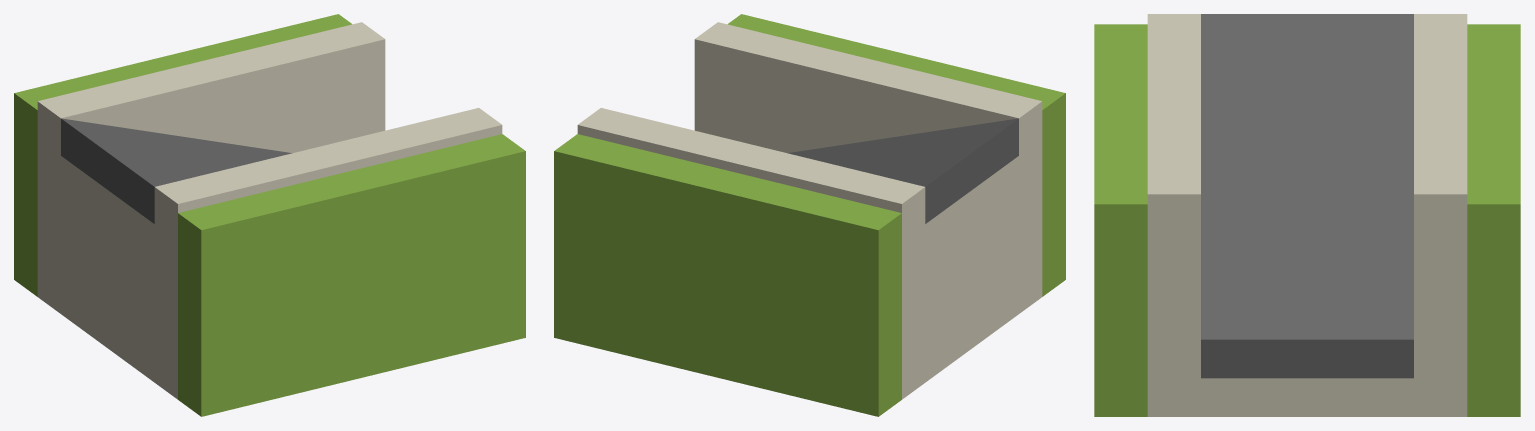
File: roadTile_179.fbx
3 views of the same model, side by side, from view 1: azimuth 30°, elevation 25°; view 2: azimuth 150°, elevation 25°; view 3: azimuth 270°, elevation 25° (orthographic). The views are drawn at different scales.
Parts seen in each view (by area): view 1: roadTile_179; view 2: roadTile_179; view 3: roadTile_179.
Boxes of the visible parts, left/top/right/bottom form: roadTile_179: left=14, top=14, right=525, bottom=416; roadTile_179: left=554, top=14, right=1065, bottom=416; roadTile_179: left=1094, top=14, right=1520, bottom=416.
Bounding box in the file's own units: 118 × 68.11 × 118.
